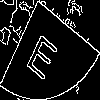E: (25, 25, 63, 82)
